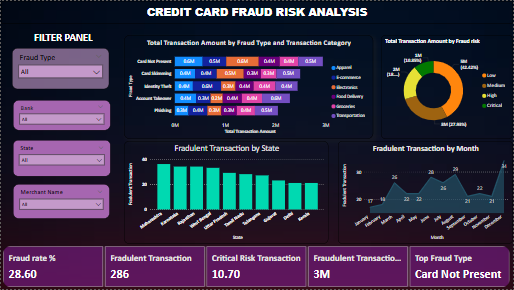

What the dashboard file says about the page in this screenshot:
{"tool":"powerbi","page":{"name":"Page 1","canvas":[1280,720],"ordinal":0},"visuals":[{"type":"textbox","box":[0,0,1280,57.1],"z":0},{"type":"textbox","box":[76.2,68.8,165,50],"z":2000},{"type":"barChart","fields":{"Y":["Credit Card Fraud Risk Analysis.TOTAL TRANSACTION AMOUNT"],"Category":["Credit Card Fraud Risk Analysis.Fraud Type"],"Series":["Credit Card Fraud Risk Analysis.Transaction Category"]},"box":[307.1,85.7,622.9,260],"z":3000},{"type":"donutChart","title":"Total Transaction Amount by Fraud risk","fields":{"Y":["Credit Card Fraud Risk Analysis.TOTAL TRANSACTION AMOUNT"],"Category":["Credit Card Fraud Risk Analysis.Fraud Risk"]},"box":[950,85.7,330,260],"z":4000},{"type":"columnChart","fields":{"Category":["Credit Card Fraud Risk Analysis.State"],"Y":["Credit Card Fraud Risk Analysis.Fradulent Transaction"]},"box":[307.1,350,511.4,257.1],"z":5000},{"type":"lineChart","fields":{"Y":["Credit Card Fraud Risk Analysis.Fradulent Transaction"],"Category":["Credit Card Fraud Risk Analysis.Transaction Date.Variation.Date Hierarchy.Month"]},"box":[842.9,350,437.1,257.1],"z":6000},{"type":"slicer","fields":{"Values":["Credit Card Fraud Risk Analysis.Fraud Type"]},"box":[28.3,118.3,243.3,103.3],"z":7000},{"type":"slicer","fields":{"Values":["Credit Card Fraud Risk Analysis.Bank"]},"box":[28.8,246.2,243.8,76.2],"z":8000},{"type":"slicer","fields":{"Values":["Credit Card Fraud Risk Analysis.State"]},"box":[28.8,346.2,243.8,91.2],"z":9000},{"type":"slicer","fields":{"Values":["Credit Card Fraud Risk Analysis.Merchant Name"]},"box":[29,458,242,87],"z":9001},{"type":"cardVisual","fields":{"Data":["Credit Card Fraud Risk Analysis.Fraud rate %","Credit Card Fraud Risk Analysis.Fradulent Transaction","Credit Card Fraud Risk Analysis.Critical Risk Transaction","Credit Card Fraud Risk Analysis.Fraudulent Transaction Amount","Credit Card Fraud Risk Analysis.Top Fraud Type"]},"box":[0,606.7,1280,113.3],"z":9002}]}

Visuals, with their boxes in screenshot pixels (x1, y1, x2, y2), scaled from the page's 1280x720 canvas onto the 514x290 screenshot:
textbox: locate(0, 0, 513, 23)
textbox: locate(31, 28, 97, 48)
barChart - Credit Card Fraud Risk Analysis.TOTAL TRANSACTION AMOUNT x Credit Card Fraud Risk Analysis.Fraud Type: locate(123, 35, 373, 139)
"Total Transaction Amount by Fraud risk" donutChart: locate(381, 35, 513, 139)
columnChart - Credit Card Fraud Risk Analysis.State x Credit Card Fraud Risk Analysis.Fradulent Transaction: locate(123, 141, 329, 245)
lineChart - Credit Card Fraud Risk Analysis.Fradulent Transaction x Credit Card Fraud Risk Analysis.Transaction Date.Variation.Date Hierarchy.Month: locate(338, 141, 513, 245)
slicer - Credit Card Fraud Risk Analysis.Fraud Type: locate(11, 48, 109, 89)
slicer - Credit Card Fraud Risk Analysis.Bank: locate(12, 99, 109, 130)
slicer - Credit Card Fraud Risk Analysis.State: locate(12, 139, 109, 176)
slicer - Credit Card Fraud Risk Analysis.Merchant Name: locate(12, 184, 109, 220)
cardVisual - Credit Card Fraud Risk Analysis.Fraud rate % x Credit Card Fraud Risk Analysis.Fradulent Transaction: locate(0, 244, 513, 289)
